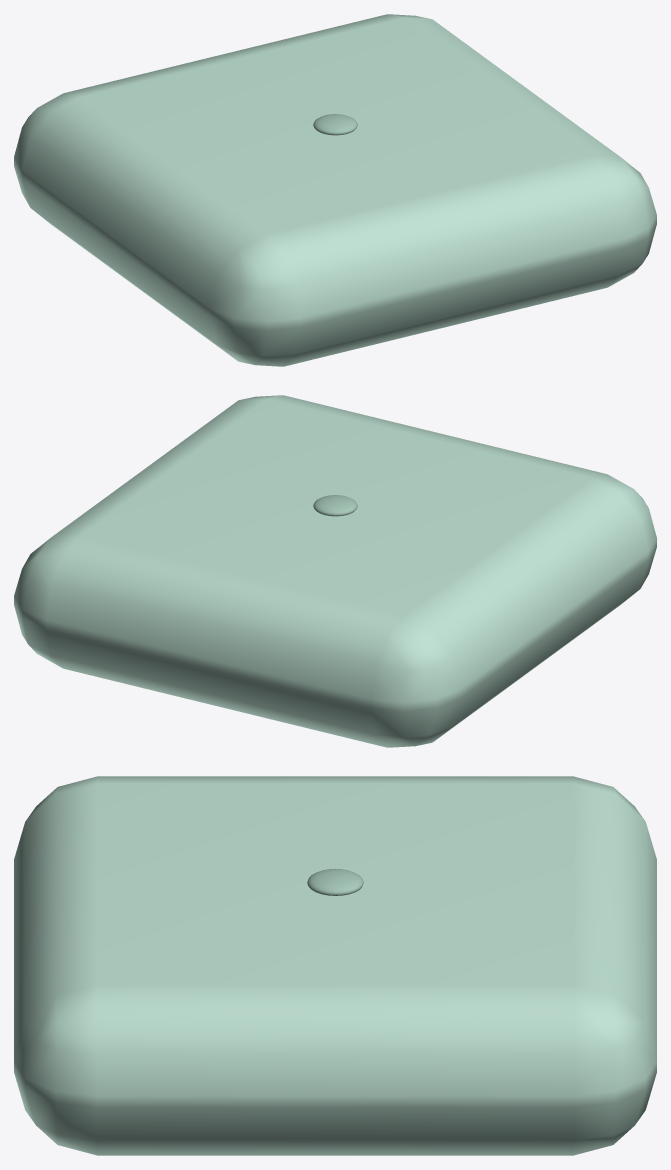
Rendered from Cushion.fbx.
3 views of the same model, one above another, from view 1: azimuth 30°, elevation 25°; view 2: azimuth 150°, elevation 25°; view 3: azimuth 270°, elevation 25° (orthographic). The views are drawn at different scales.
Visible parts, largest first — view 1: Cushion; view 2: Cushion; view 3: Cushion.
Boxes of the visible parts, <box> form: Cushion: <box>14,14,656,366</box>; Cushion: <box>14,395,656,747</box>; Cushion: <box>14,776,656,1155</box>.
Size of the model in its own units: 100 by 29.5 by 100.
